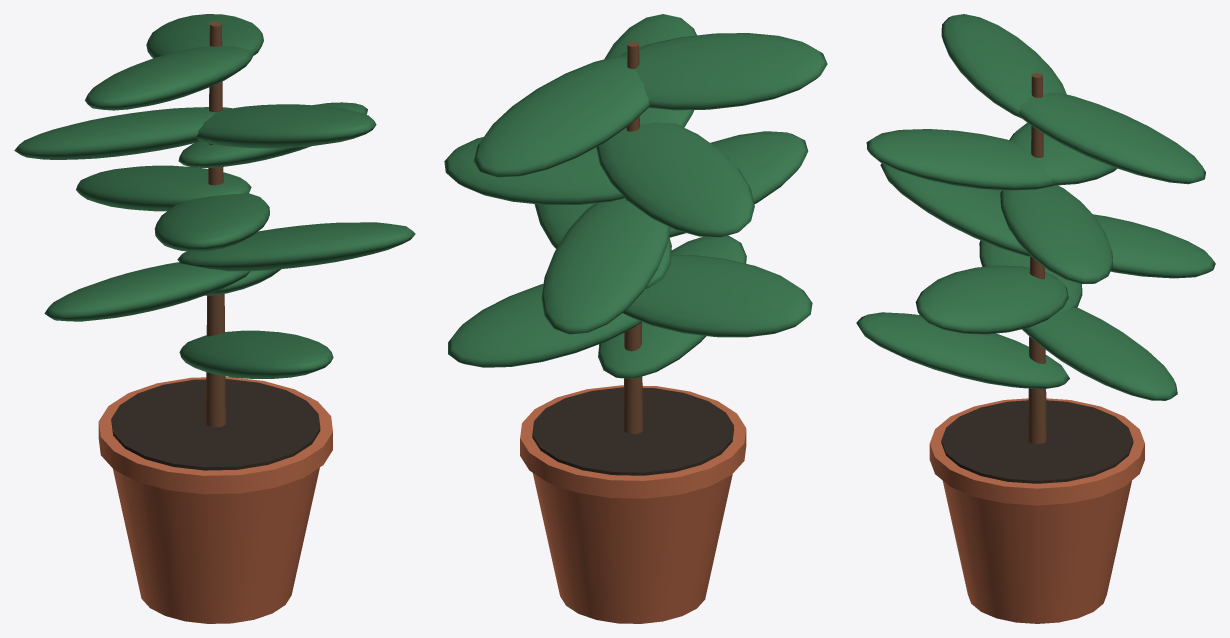
Rendered from potted-plant-lod0.glb.
3 renders of one model, left to right at view 1: azimuth 30°, elevation 25°; view 2: azimuth 150°, elevation 25°; view 3: azimuth 270°, elevation 25°, orthographic. The views are drawn at different scales.
Parts seen in each view (by area): view 1: pot, soil, pot-rim, leaf-3, leaf-7, leaf-2, leaf-8, leaf-10, leaf-0, leaf-4, leaf-5, leaf-9 (+3 smaller); view 2: pot, soil, leaf-7, leaf-9, leaf-10, leaf-4, leaf-2, leaf-1, pot-rim, leaf-6, leaf-0, leaf-5 (+3 smaller); view 3: pot, soil, leaf-9, leaf-0, leaf-8, leaf-3, leaf-6, leaf-1, leaf-10, pot-rim, leaf-5, leaf-4 (+3 smaller).
Part boxes in pixels (x1=…): pot: x1=113, y1=467, x2=319, y2=623; soil: x1=111, y1=379, x2=320, y2=470; pot-rim: x1=98, y1=377, x2=332, y2=494; leaf-3: x1=177, y1=222, x2=415, y2=271; leaf-7: x1=14, y1=107, x2=231, y2=159; leaf-2: x1=44, y1=262, x2=250, y2=321; leaf-8: x1=196, y1=104, x2=376, y2=148; leaf-10: x1=85, y1=46, x2=253, y2=110; leaf-0: x1=179, y1=330, x2=333, y2=378; leaf-4: x1=76, y1=165, x2=251, y2=211; leaf-5: x1=154, y1=193, x2=269, y2=251; leaf-9: x1=146, y1=14, x2=263, y2=58; pot: x1=533, y1=473, x2=732, y2=623; soil: x1=532, y1=387, x2=733, y2=475; leaf-7: x1=596, y1=122, x2=754, y2=237; leaf-9: x1=473, y1=55, x2=649, y2=177; leaf-10: x1=621, y1=33, x2=827, y2=110; leaf-4: x1=541, y1=198, x2=670, y2=334; leaf-2: x1=623, y1=255, x2=812, y2=337; leaf-1: x1=448, y1=284, x2=641, y2=367; pot-rim: x1=520, y1=385, x2=746, y2=498; leaf-6: x1=444, y1=137, x2=625, y2=204; leaf-0: x1=598, y1=235, x2=746, y2=378; leaf-5: x1=669, y1=131, x2=808, y2=237; pot: x1=943, y1=481, x2=1131, y2=623; soil: x1=941, y1=400, x2=1133, y2=483; leaf-9: x1=1019, y1=92, x2=1205, y2=184; leaf-0: x1=856, y1=312, x2=1069, y2=389; leaf-8: x1=866, y1=129, x2=1055, y2=190; leaf-3: x1=915, y1=265, x2=1068, y2=334; leaf-6: x1=1000, y1=185, x2=1112, y2=283; leaf-1: x1=1022, y1=307, x2=1177, y2=400; leaf-10: x1=941, y1=14, x2=1066, y2=118; pot-rim: x1=929, y1=398, x2=1144, y2=505; leaf-5: x1=880, y1=163, x2=1031, y2=256; leaf-4: x1=1008, y1=214, x2=1215, y2=278.
Bounding box in the file's own units: 0.7847 × 1.23 × 0.7753.
